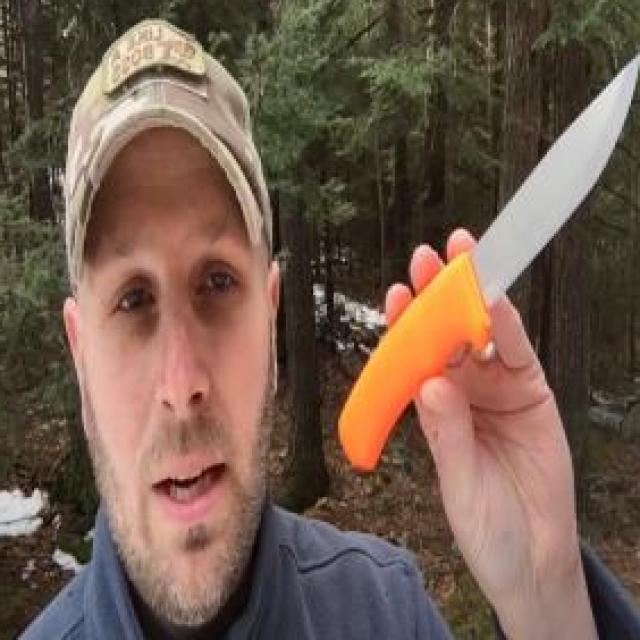knife: (443, 38, 640, 379)
